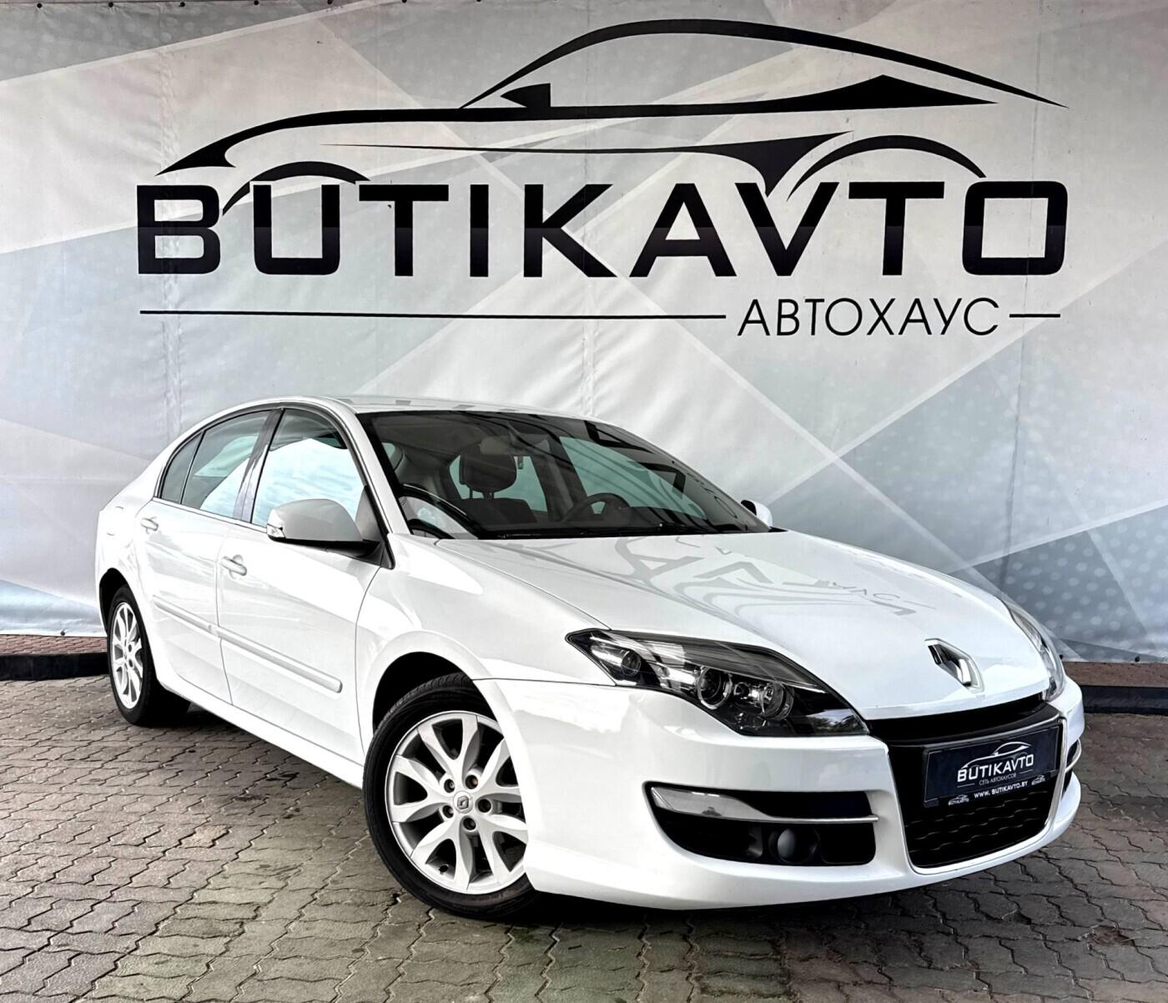Laguna_2010-2015: (89, 380, 1093, 929)
